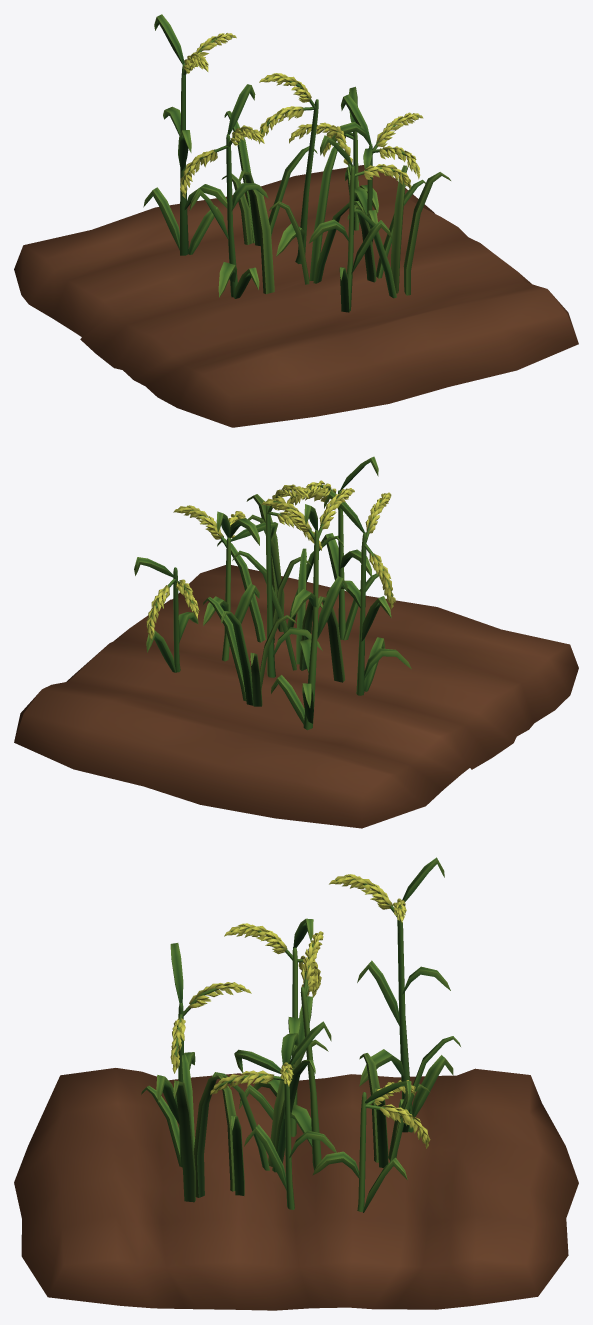
Rendered from SM_PlantSoil_Rice_Lv3.fbx.
The picture shows the model from 3 angles, top to bottom: view 1: azimuth 30°, elevation 25°; view 2: azimuth 150°, elevation 25°; view 3: azimuth 270°, elevation 25°; orthographic projection. The views are drawn at different scales.
Visible parts, largest first — view 1: SM_PlantSoil_Rice_Lv3; view 2: SM_PlantSoil_Rice_Lv3; view 3: SM_PlantSoil_Rice_Lv3.
Boxes of the visible parts, <box> form: SM_PlantSoil_Rice_Lv3: <box>14,14,578,427</box>; SM_PlantSoil_Rice_Lv3: <box>14,456,578,828</box>; SM_PlantSoil_Rice_Lv3: <box>14,857,578,1310</box>.
Size of the model in its own units: 96.14 by 62.74 by 103.
